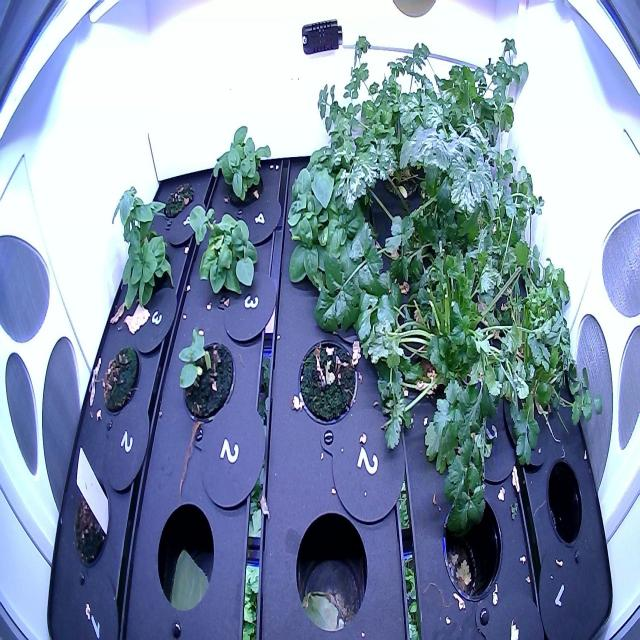empty_pod: (290, 500, 370, 637), (440, 481, 504, 614), (152, 498, 217, 618), (545, 447, 586, 553)
